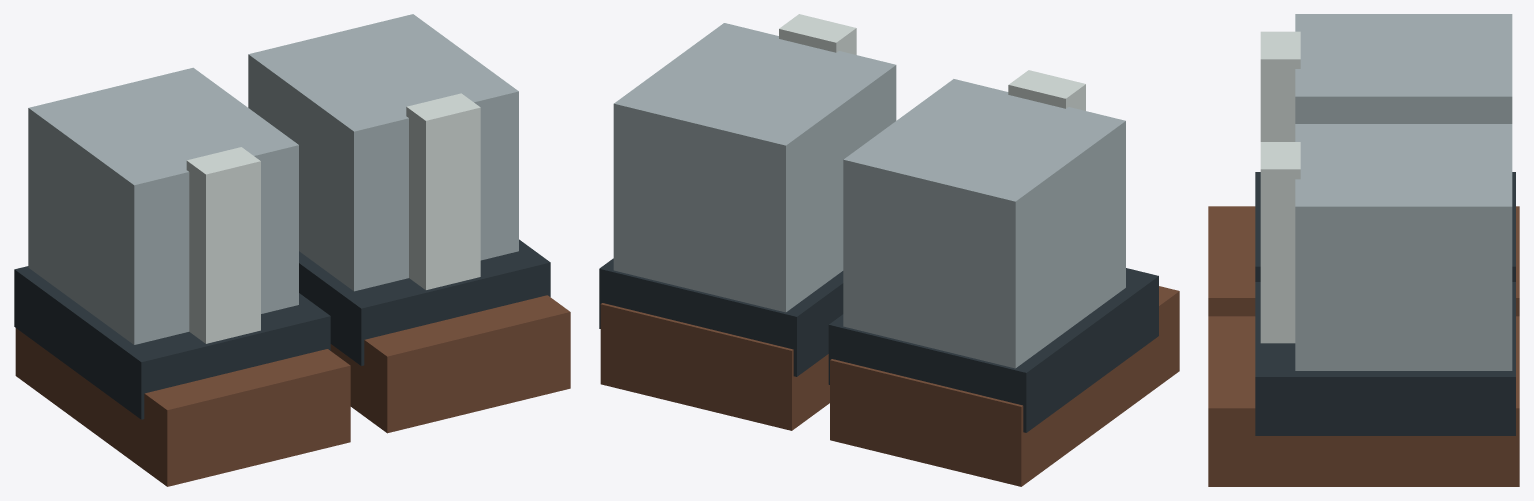
File: fixed-boots-lod1.glb
3 renders of one model, left to right at view 1: azimuth 30°, elevation 25°; view 2: azimuth 150°, elevation 25°; view 3: azimuth 270°, elevation 25°, orthographic. The views are drawn at different scales.
Parts seen in each view (by area): view 1: piece_shinR, piece_shinL; view 2: piece_shinR, piece_shinL; view 3: piece_shinL, piece_shinR.
Part boxes in pixels (x1,y1,x2,y2): piece_shinR: [14, 67, 350, 486]; piece_shinL: [248, 14, 570, 433]; piece_shinR: [828, 70, 1179, 486]; piece_shinL: [599, 14, 896, 430]; piece_shinL: [1208, 124, 1519, 486]; piece_shinR: [1208, 14, 1519, 316].
Bounding box in the file's own units: 0.67 × 0.435 × 0.43.
